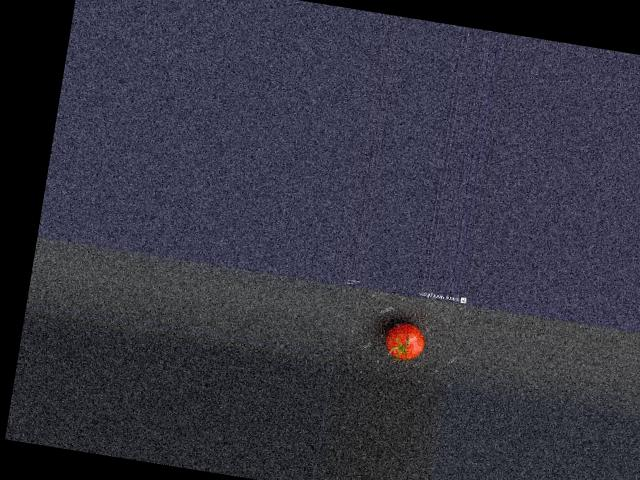tomato: (382, 321, 426, 362)
